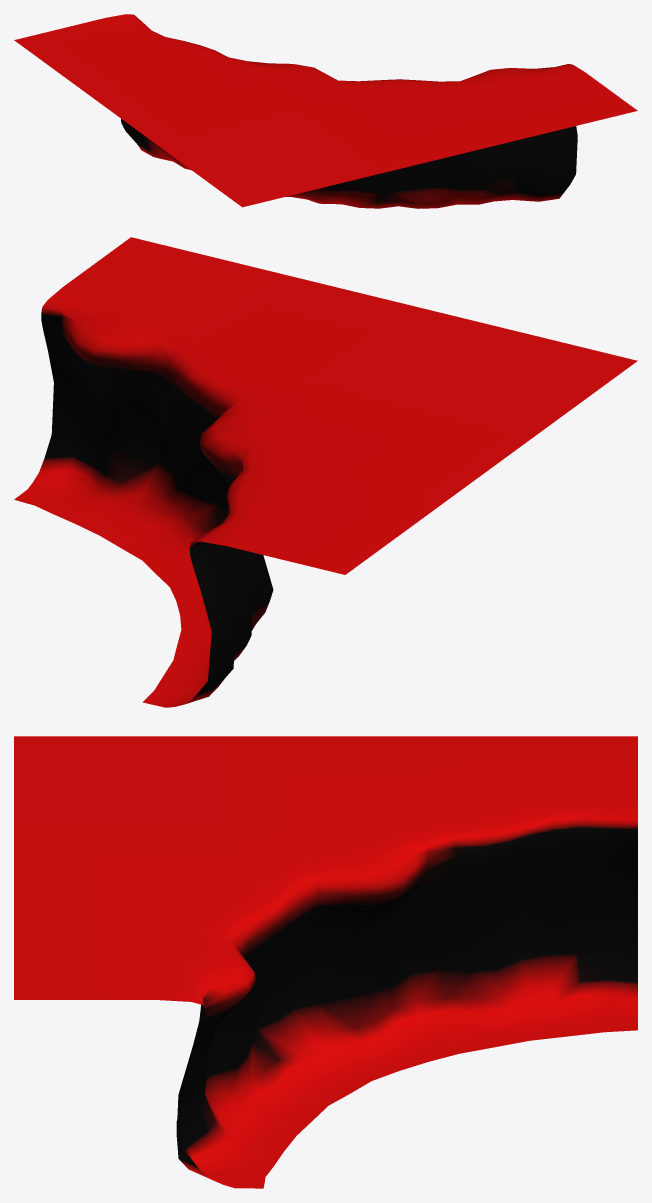
Rendered from GroundCliff04D 1M Background.fbx.
The picture shows the model from 3 angles, top to bottom: view 1: azimuth 30°, elevation 25°; view 2: azimuth 150°, elevation 25°; view 3: azimuth 270°, elevation 25°; orthographic projection. The views are drawn at different scales.
Parts seen in each view (by area): view 1: GroundCliff04D 1M Background; view 2: GroundCliff04D 1M Background; view 3: GroundCliff04D 1M Background.
Part boxes in pixels (x1=…): GroundCliff04D 1M Background: x1=14, y1=14, x2=637, y2=208; GroundCliff04D 1M Background: x1=14, y1=237, x2=637, y2=707; GroundCliff04D 1M Background: x1=14, y1=736, x2=637, y2=1188.
Size of the model in its own units: 3 by 1 by 3.
